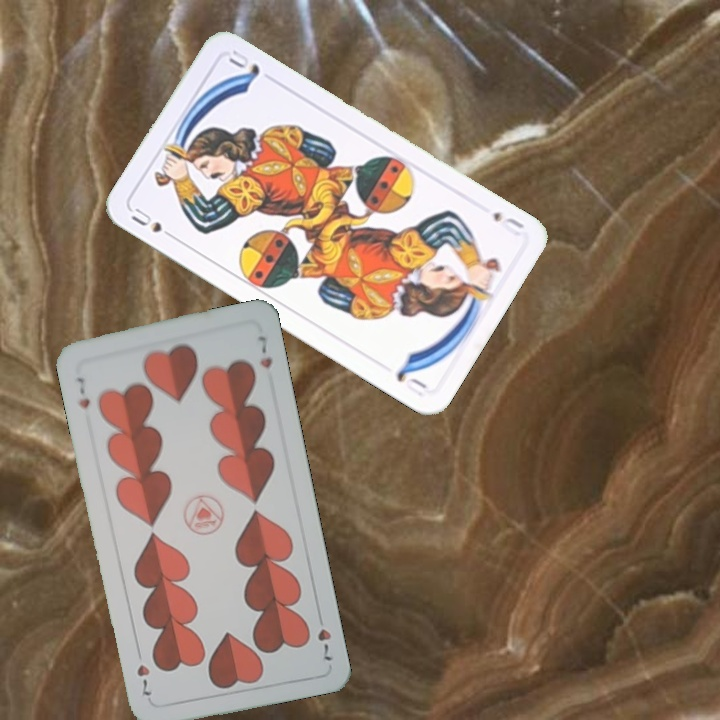H7: (313, 608, 336, 665), (72, 373, 93, 411)
SU: (127, 203, 180, 243), (488, 208, 527, 239)
